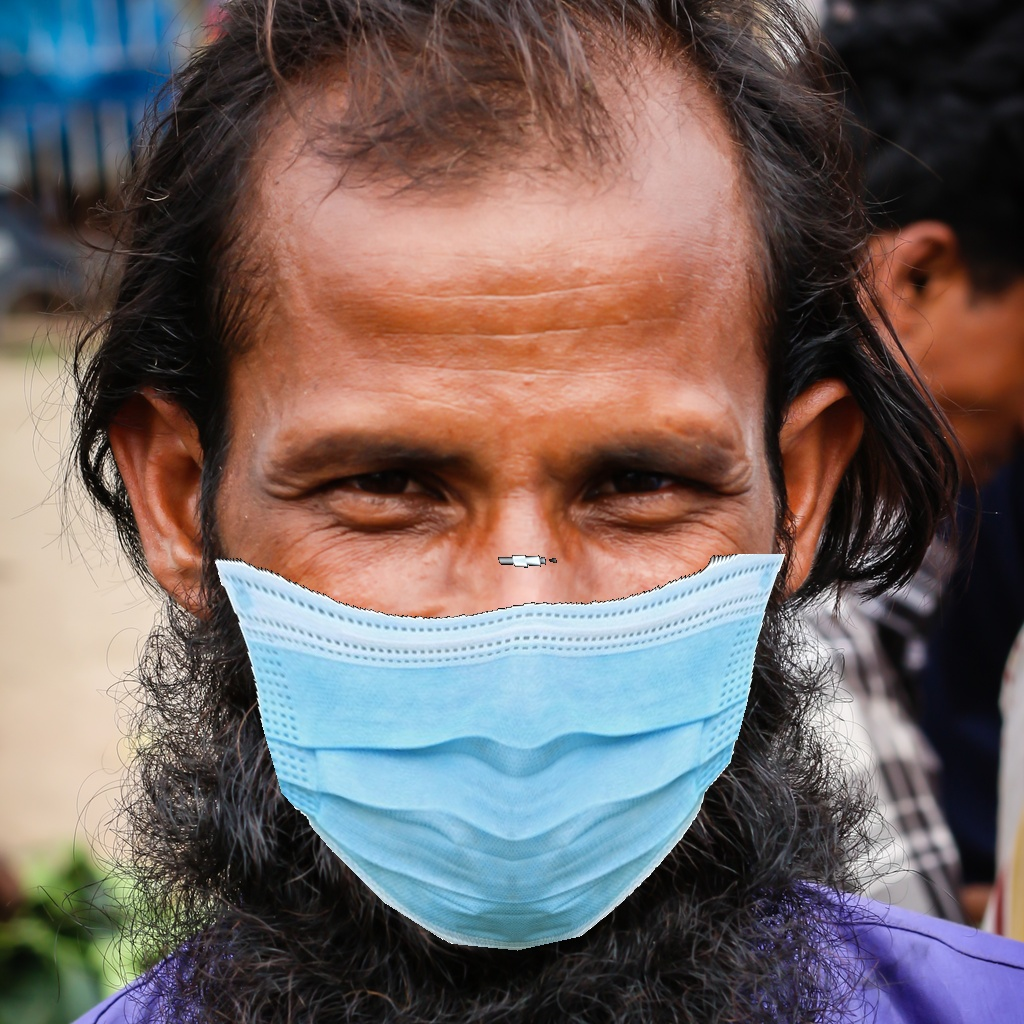Mask: (209, 385, 797, 947)
